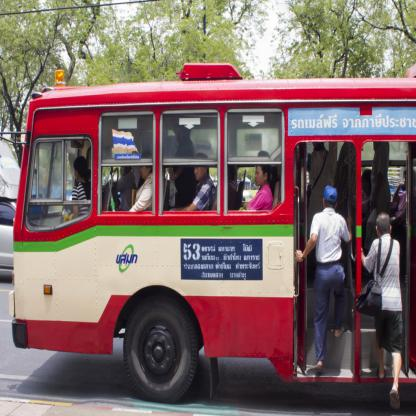Bus: (0, 60, 416, 406)
